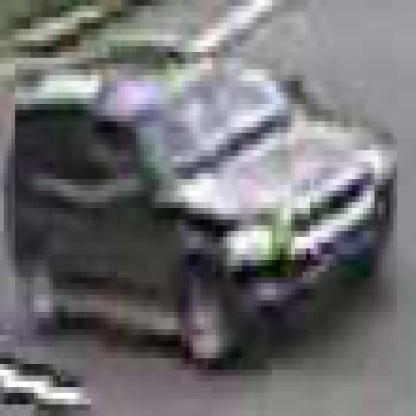car: (16, 59, 402, 365)
